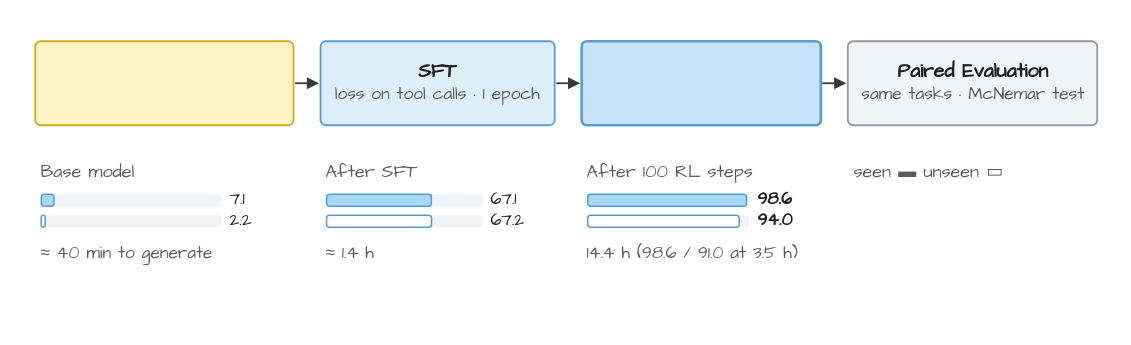
The diagram is 1131 pixels wide and 345 high, and some of its shapes have lost their labels. The centre of each missing label's shape, as x and y in pixels:
"Expert Demonstrations 2,145 of 3,553 games solved" belongs at point (164, 82).
"Multi-Turn RL StepCredit-RL · 100 steps" belongs at point (700, 82).
